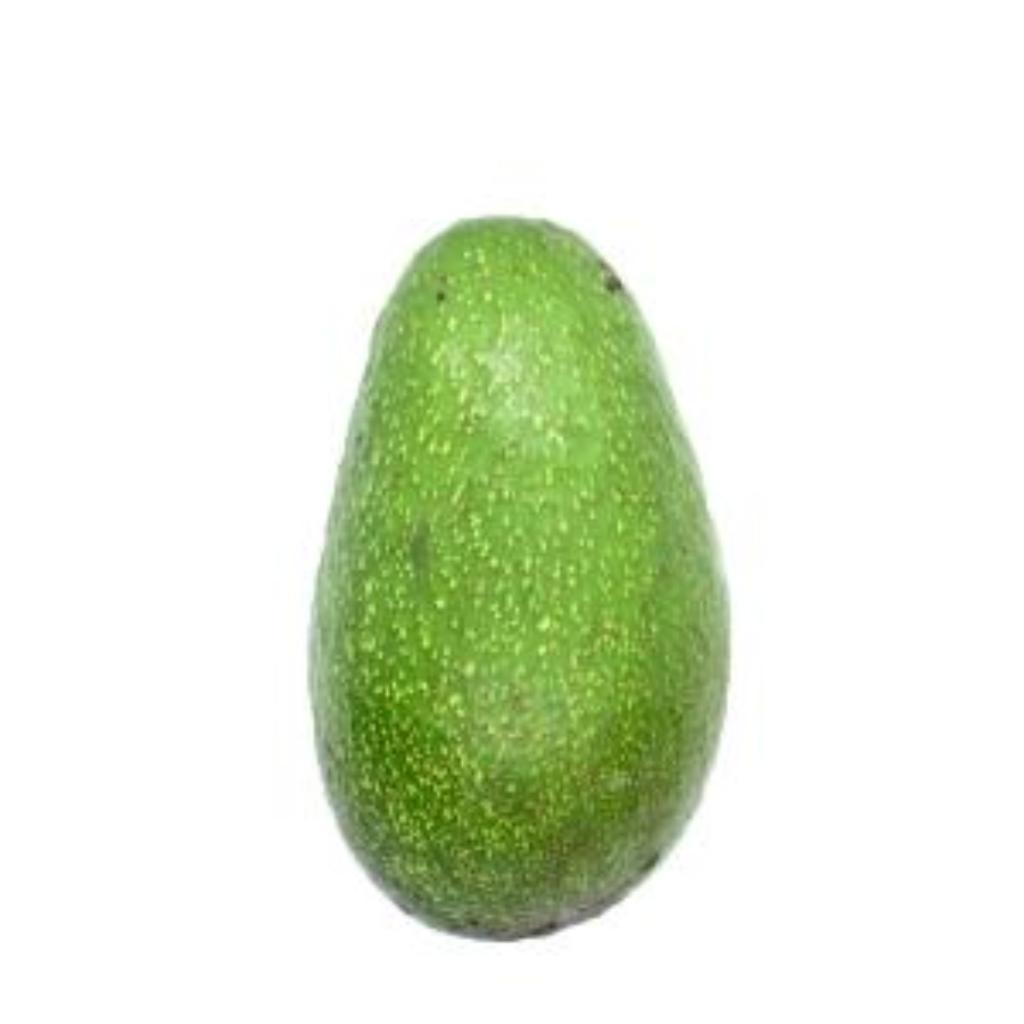cercospora: (296, 202, 757, 943)
